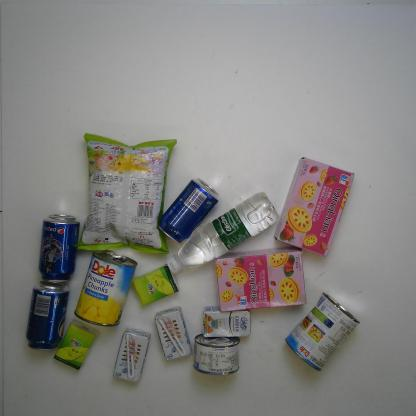Canned Food: (284, 291, 360, 373), (74, 250, 138, 328), (192, 332, 240, 376)
Dessert: (272, 156, 354, 258), (214, 246, 308, 313)
Drink: (166, 191, 280, 276), (157, 177, 220, 245), (25, 279, 70, 351), (38, 214, 80, 282)
Milk: (154, 306, 193, 361), (112, 328, 151, 383), (202, 304, 252, 338)
Puffed Food: (76, 132, 178, 257)
Tissue: (52, 319, 98, 371), (132, 263, 180, 307)
